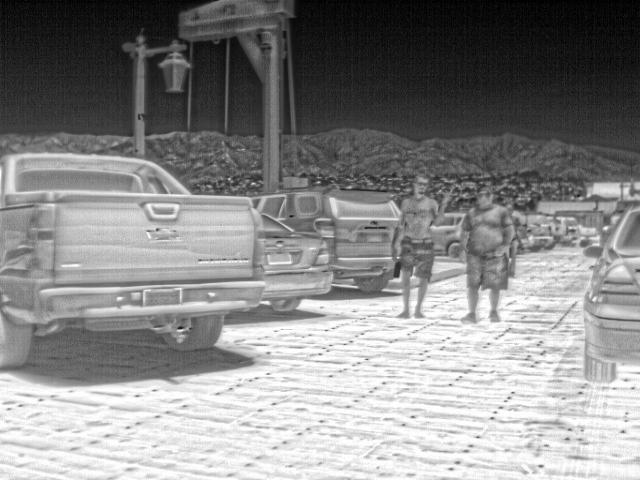car: (2, 150, 273, 368), (247, 184, 402, 292), (581, 202, 639, 381), (255, 213, 333, 315), (434, 211, 467, 258), (529, 210, 556, 248)
person: (390, 174, 453, 317), (457, 186, 515, 322)
